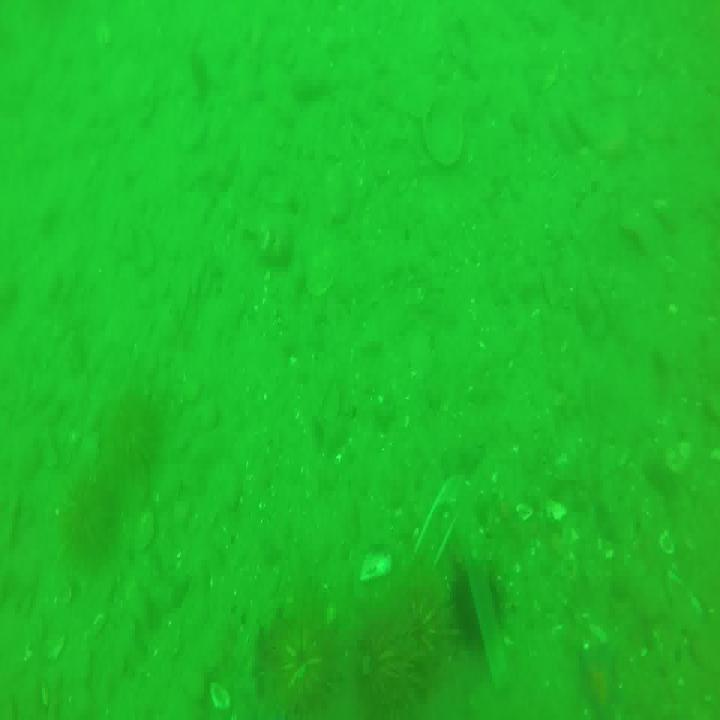echinus: (362, 595, 446, 720), (271, 610, 339, 720), (106, 388, 164, 489), (59, 479, 117, 569), (456, 559, 508, 651)
scallop: (419, 96, 465, 168)
starfish: (583, 650, 619, 720)
